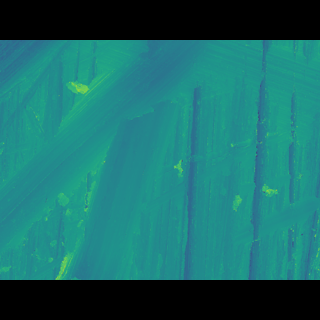Loch: (0, 69, 207, 248)
